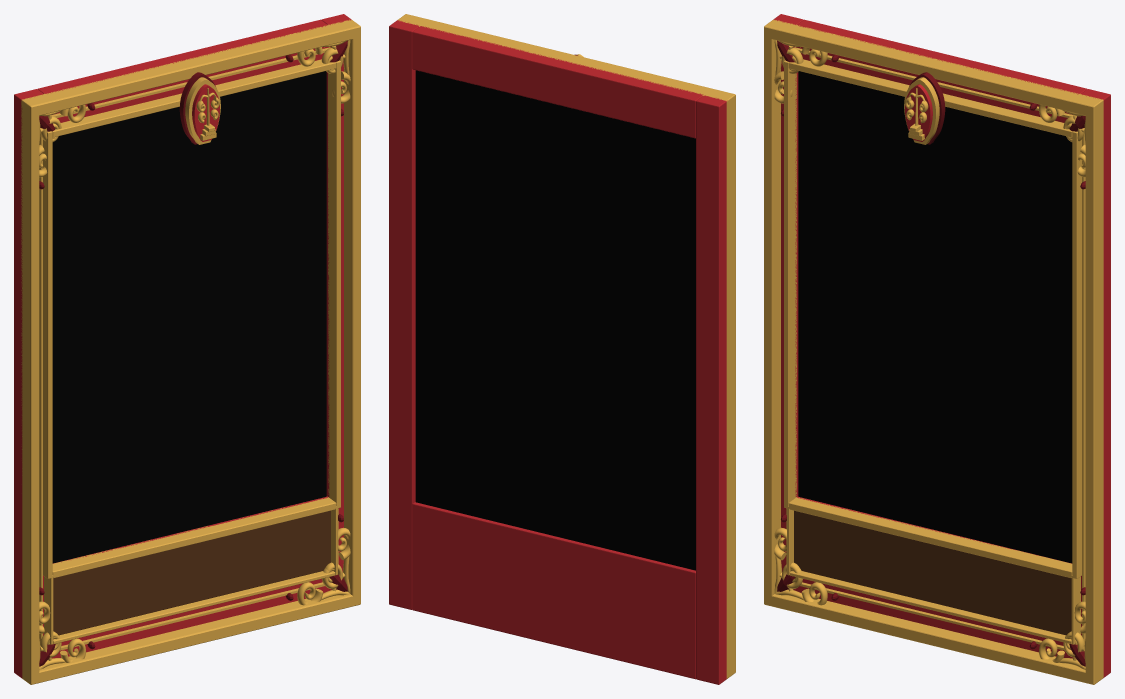
The model's file is frame emas.fbx.
3 views of the same model, side by side, from view 1: azimuth 30°, elevation 25°; view 2: azimuth 150°, elevation 25°; view 3: azimuth 330°, elevation 25° (orthographic).
Visible parts, largest first — view 1: BG_Plaque_Blank.001, BG_OuterRim, BG_WindowLip, BG_Plaque_Blank, BG_Plate, BG_CornerScrolls, BG_PlaqueBorder, BG_BandLine, BG_CornerLeaves, Gunungan_Inner, Gunungan_Gold; view 2: BG_Plaque_Blank.001, BG_Plate, BG_OuterRim; view 3: BG_Plaque_Blank.001, BG_OuterRim, BG_WindowLip, BG_Plaque_Blank, BG_Plate, BG_CornerScrolls, BG_PlaqueBorder, BG_BandLine, BG_CornerLeaves, Gunungan_Inner, Gunungan_Gold.
Boxes of the visible parts, x1,y1,x2,y2 form: BG_Plaque_Blank.001: (52, 71, 326, 563); BG_OuterRim: (21, 19, 360, 684); BG_WindowLip: (43, 59, 340, 578); BG_Plaque_Blank: (53, 510, 330, 635); BG_Plate: (14, 14, 351, 678); BG_CornerScrolls: (39, 40, 350, 669); BG_PlaqueBorder: (44, 506, 337, 644); BG_BandLine: (39, 47, 338, 650); BG_CornerLeaves: (39, 40, 347, 666); Gunungan_Inner: (192, 84, 219, 141); Gunungan_Gold: (185, 77, 220, 144); BG_Plaque_Blank.001: (415, 70, 695, 570); BG_Plate: (389, 20, 727, 684); BG_OuterRim: (397, 14, 735, 678); BG_Plaque_Blank.001: (798, 71, 1072, 563); BG_OuterRim: (764, 19, 1103, 684); BG_WindowLip: (784, 59, 1081, 578); BG_Plaque_Blank: (794, 510, 1071, 635); BG_Plate: (773, 14, 1110, 678); BG_CornerScrolls: (774, 40, 1085, 669); BG_PlaqueBorder: (787, 506, 1080, 644); BG_BandLine: (786, 47, 1085, 650); BG_CornerLeaves: (777, 40, 1085, 666); Gunungan_Inner: (905, 84, 932, 141); Gunungan_Gold: (904, 77, 939, 144).
Bounding box in the file's own units: 570 × 954 × 98.97.
